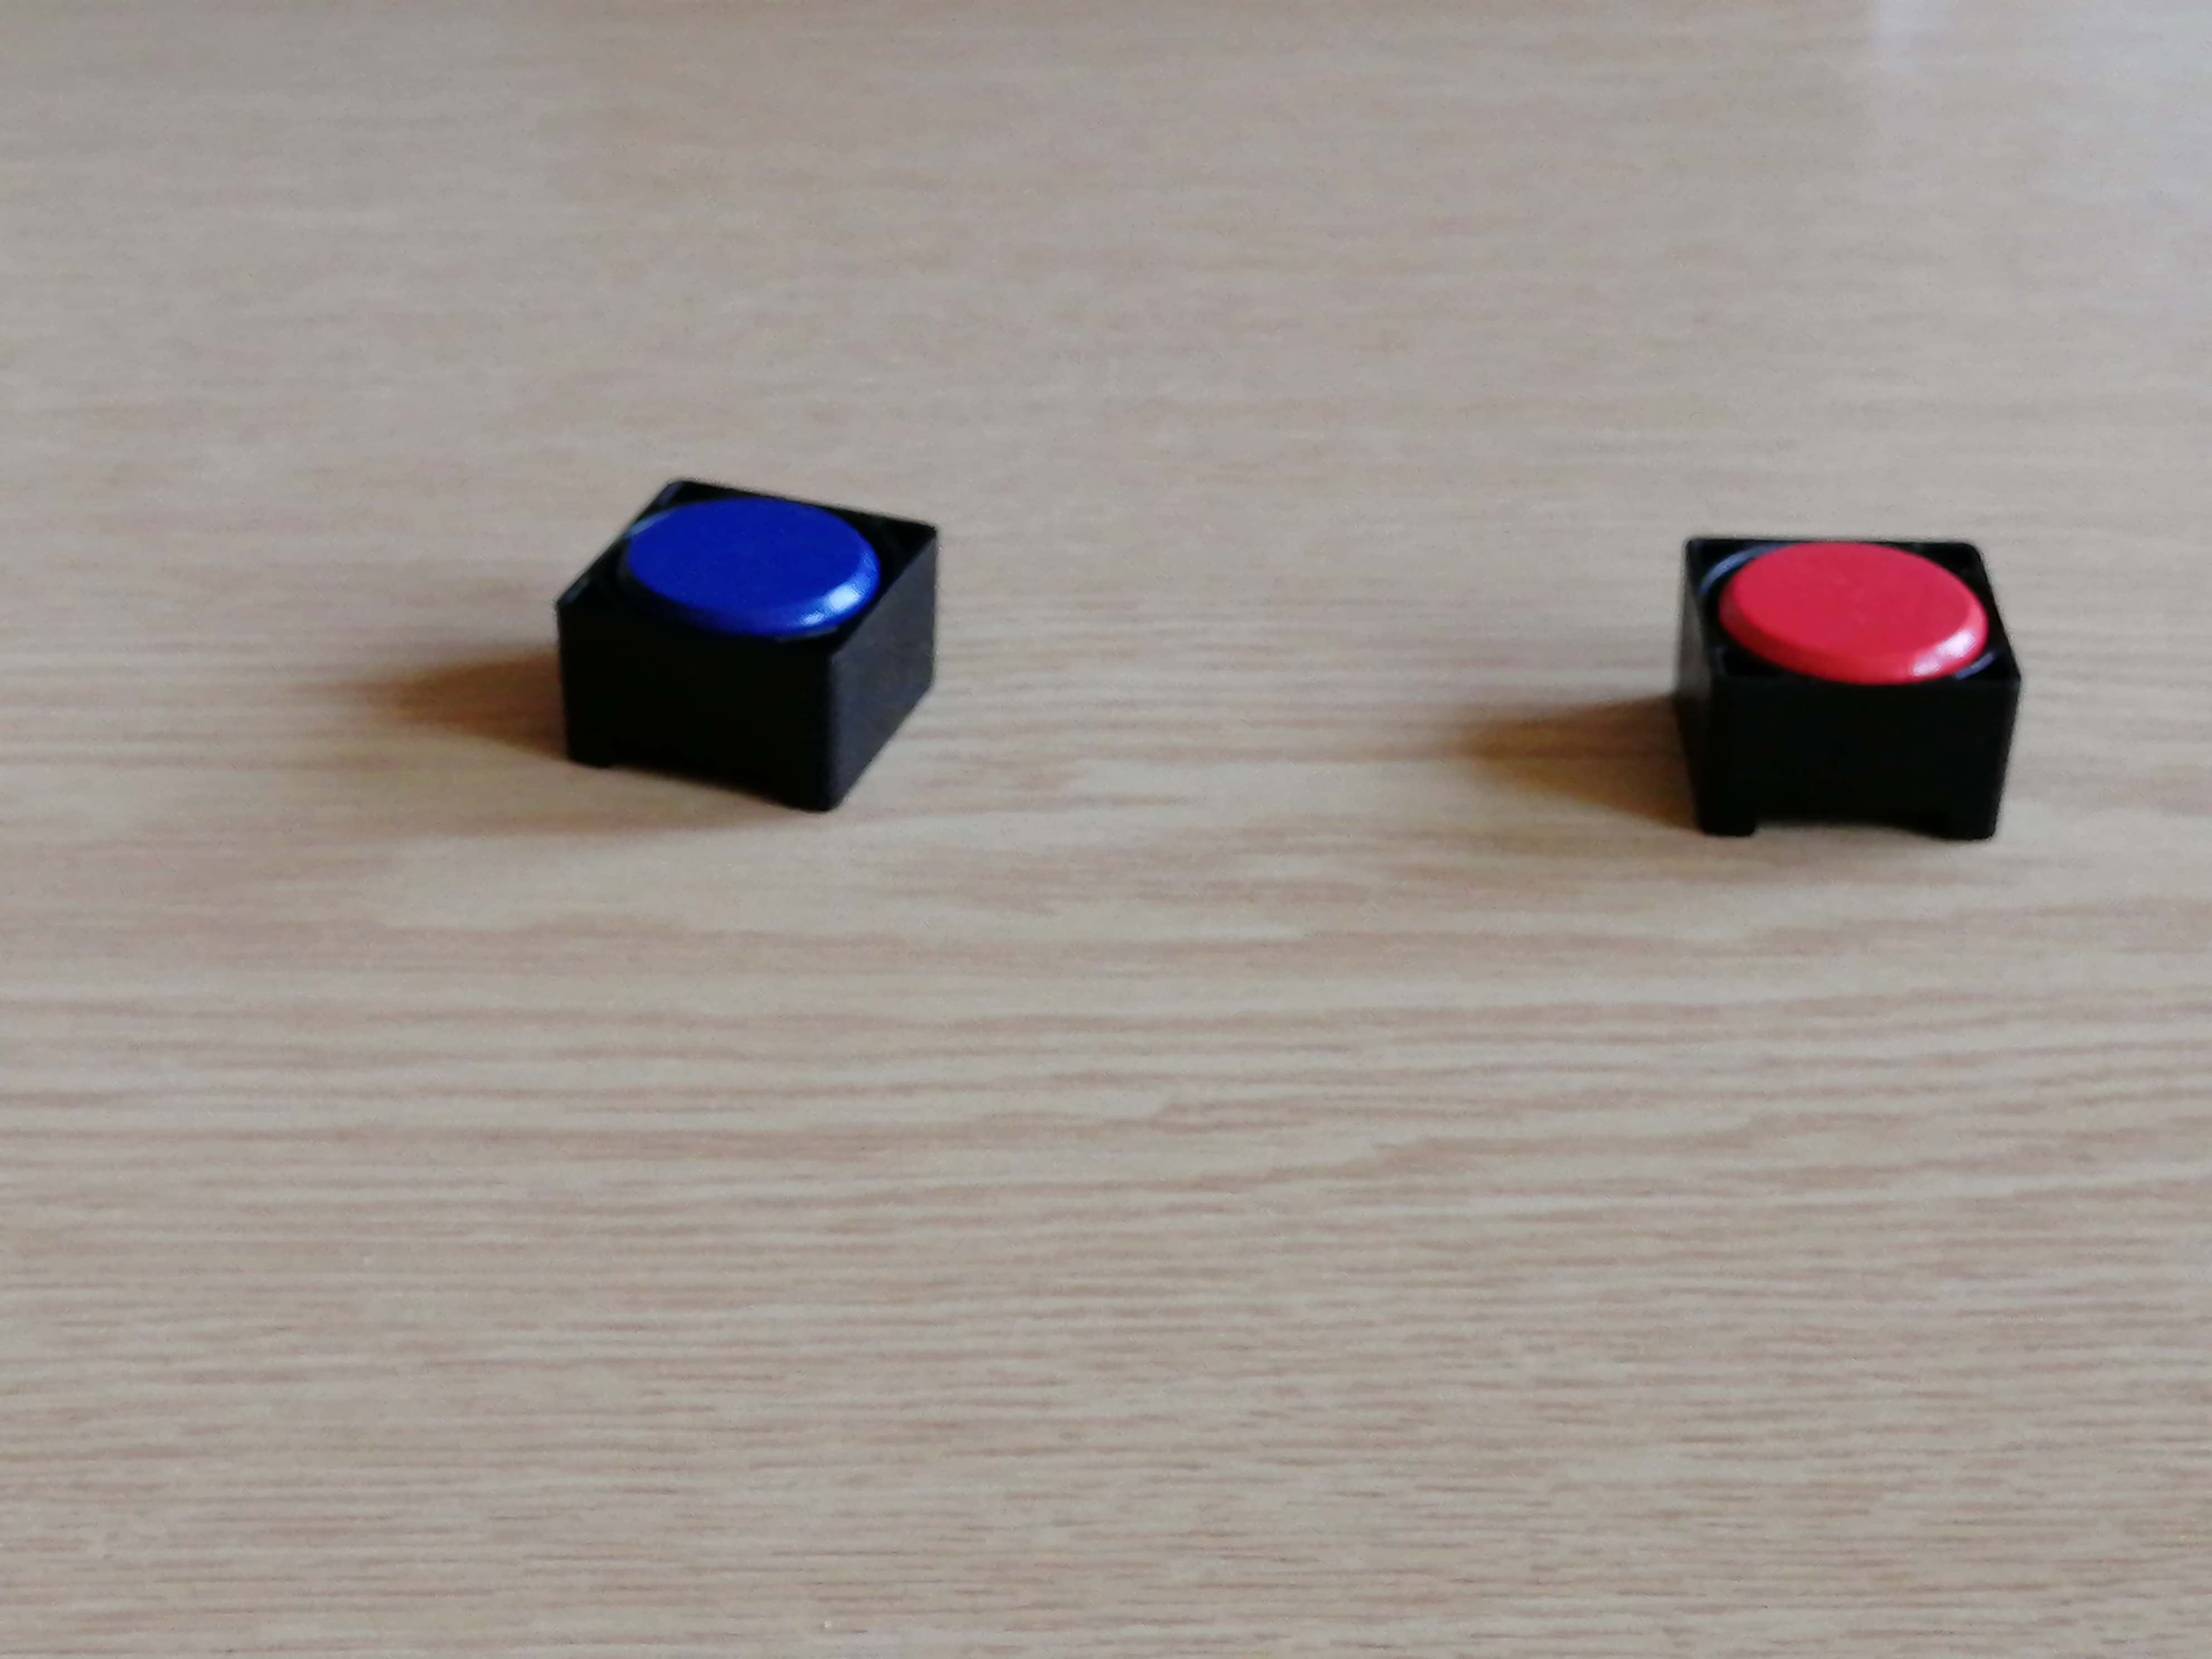Behaelter: (547, 481, 946, 812), (1681, 532, 2020, 836)
WerkStueck: (1721, 537, 1980, 683), (632, 498, 885, 629)
